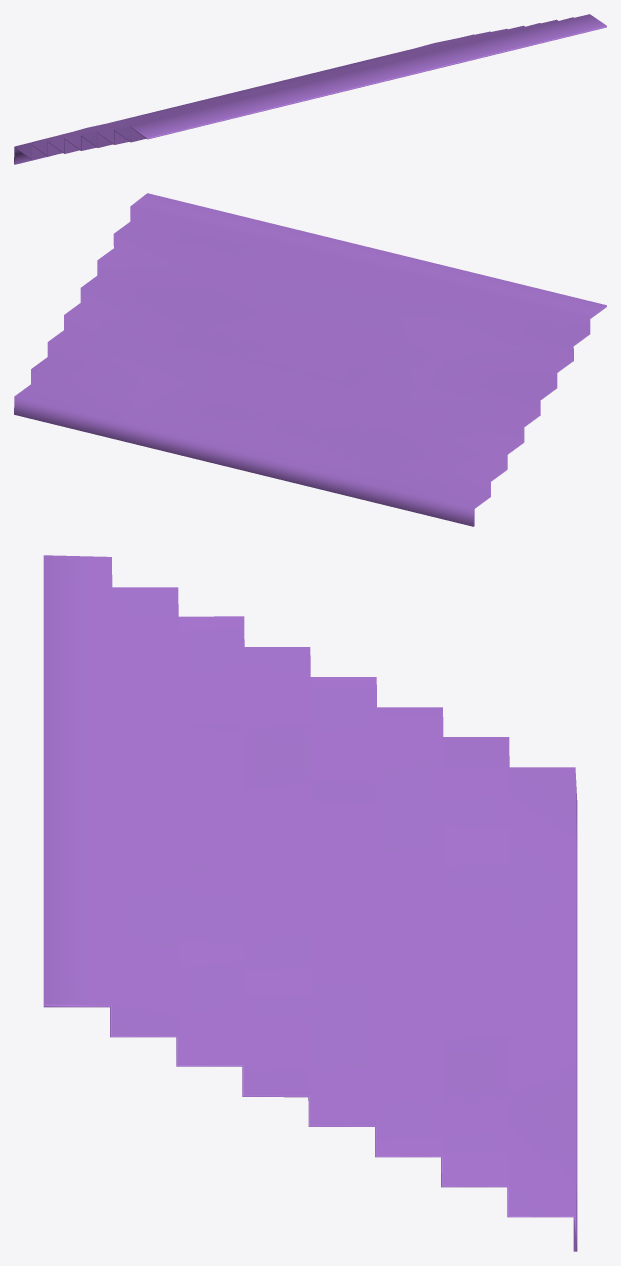
File: Stairs_02_Lod0.fbx
3 views of the same model, one above another, from view 1: azimuth 30°, elevation 25°; view 2: azimuth 150°, elevation 25°; view 3: azimuth 270°, elevation 25° (orthographic). The views are drawn at different scales.
Visible parts, largest first — view 1: Stairs_02_Lod0; view 2: Stairs_02_Lod0; view 3: Stairs_02_Lod0.
Part boxes in pixels (x1,y1,x2,y2): Stairs_02_Lod0: (14, 14, 606, 164); Stairs_02_Lod0: (14, 193, 606, 526); Stairs_02_Lod0: (43, 555, 577, 1251).
Size of the model in its own units: 600 by 155 by 302.
